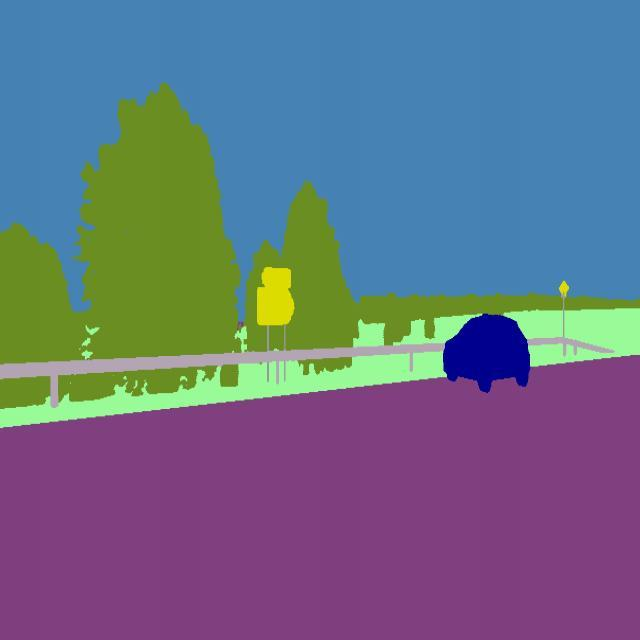safe: (442, 310, 532, 396)
